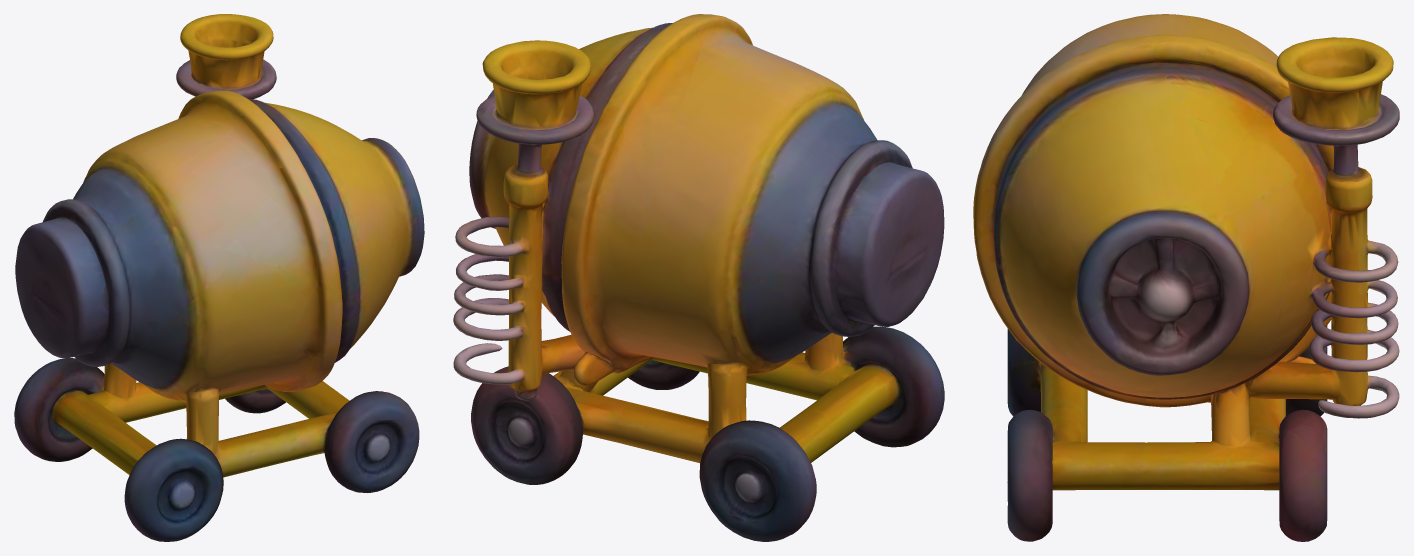
The model's file is concrete_mixer.glb.
3 renders of one model, left to right at view 1: azimuth 30°, elevation 25°; view 2: azimuth 150°, elevation 25°; view 3: azimuth 270°, elevation 25°, orthographic. The views are drawn at different scales.
Parts seen in each view (by area): view 1: tripo_node_19de9f5f-89bb-4642-9755-923c8d2cca9f; view 2: tripo_node_19de9f5f-89bb-4642-9755-923c8d2cca9f; view 3: tripo_node_19de9f5f-89bb-4642-9755-923c8d2cca9f.
Part boxes in pixels (<box>): tripo_node_19de9f5f-89bb-4642-9755-923c8d2cca9f: <box>14,14,424,541</box>; tripo_node_19de9f5f-89bb-4642-9755-923c8d2cca9f: <box>453,14,944,541</box>; tripo_node_19de9f5f-89bb-4642-9755-923c8d2cca9f: <box>973,14,1399,541</box>.
Bounding box in the file's own units: 0.9323 × 0.9442 × 0.7852.
1 material, 1 textured.
